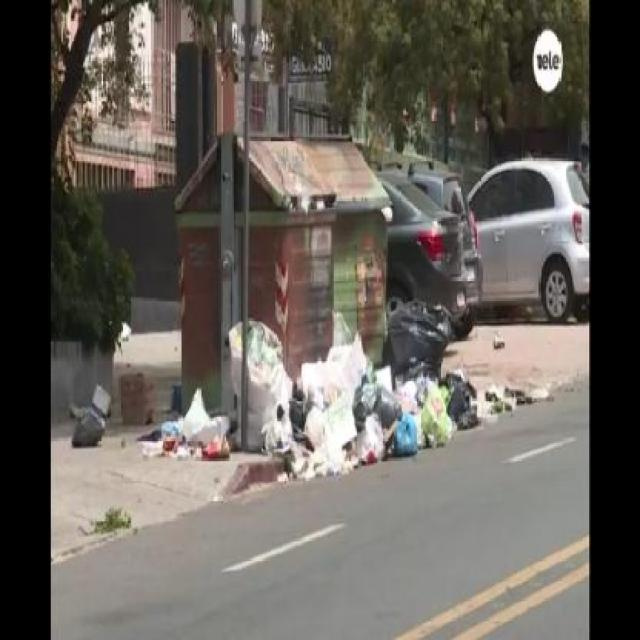garbage: (69, 296, 570, 477), (273, 183, 419, 238)
